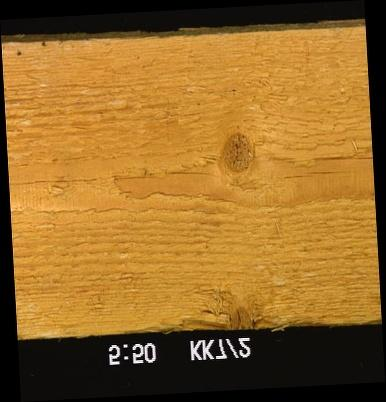split: (8, 179, 97, 185), (303, 168, 350, 176)
wave: (134, 313, 323, 331)
